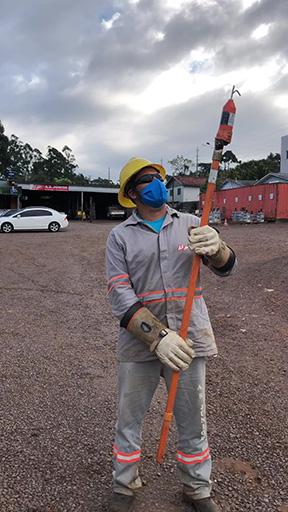Detector_Tensao_Contato: (216, 85, 242, 143)
Vara_Manobra: (157, 145, 223, 462)
